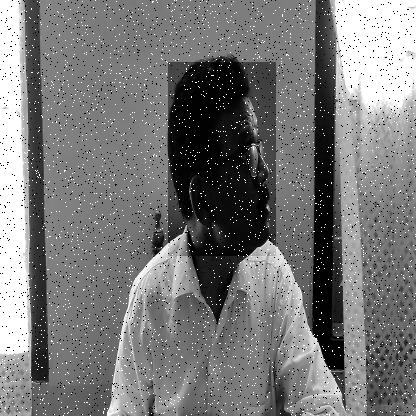Distracted: (168, 62, 276, 256)
